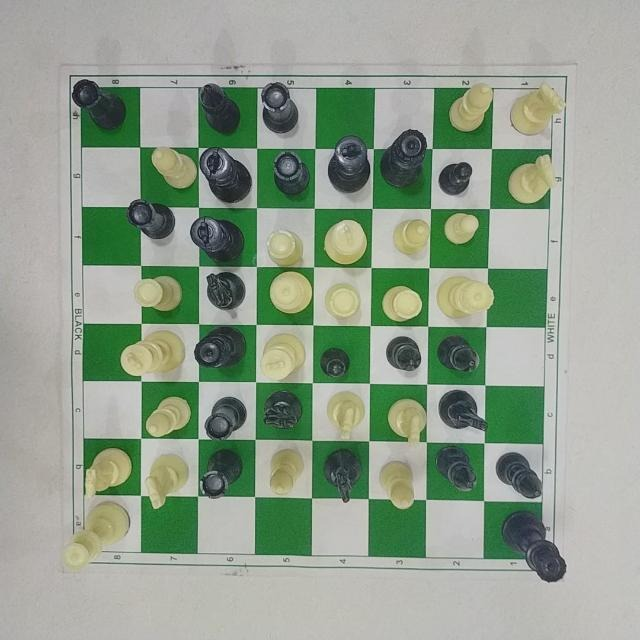black-bishop: (493, 449, 545, 501), (198, 81, 242, 135), (433, 444, 478, 494), (436, 333, 482, 374), (384, 334, 424, 373)
black-king: (196, 145, 253, 207), (187, 214, 246, 265), (326, 132, 372, 195)
black-knight: (435, 388, 490, 434), (322, 446, 364, 504), (205, 269, 247, 312), (261, 388, 304, 430)
black-pawn: (435, 160, 474, 198), (318, 345, 352, 379)
black-queen: (498, 508, 569, 585), (377, 127, 428, 191), (192, 324, 248, 370)
black-rook: (70, 78, 128, 132), (197, 448, 244, 500), (125, 197, 177, 241), (202, 395, 248, 443), (260, 80, 300, 135), (271, 149, 311, 197)
white-bishop: (446, 82, 495, 134), (149, 145, 199, 191), (143, 394, 193, 440), (377, 459, 416, 511), (268, 446, 306, 497), (391, 216, 433, 256)
white-king: (118, 328, 187, 378), (258, 331, 308, 383), (320, 217, 369, 267)
white-knight: (506, 80, 567, 138), (505, 151, 559, 206), (143, 450, 191, 511), (82, 446, 134, 502), (323, 389, 366, 441), (386, 397, 428, 449)
white-pawn: (441, 211, 480, 247)
white-queen: (59, 500, 133, 572), (433, 273, 497, 320), (266, 269, 314, 315)
white-rook: (131, 273, 185, 313), (263, 227, 305, 269), (380, 284, 424, 324), (323, 281, 363, 321)
